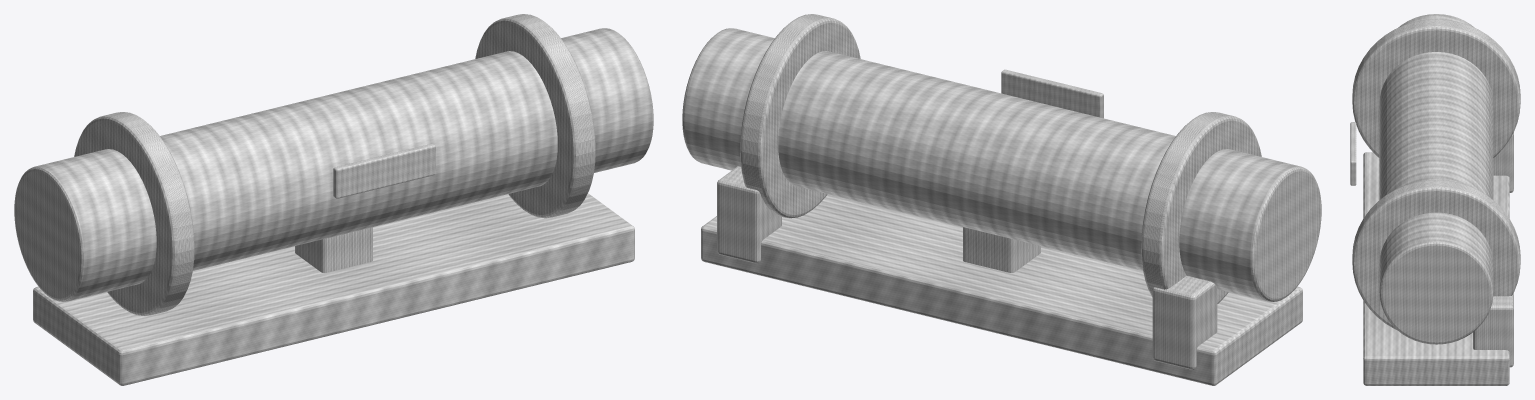
The model's file is pipeline_variant_a.glb.
3 views of the same model, side by side, from view 1: azimuth 30°, elevation 25°; view 2: azimuth 150°, elevation 25°; view 3: azimuth 270°, elevation 25° (orthographic). The views are drawn at different scales.
Parts seen in each view (by area): view 1: Pipe body, Foundation, Pipe flange.001, Pipe flange, Asset ID plate.001, Pipe support; view 2: Pipe body, Foundation, Pipe flange.001, Pipe flange, Service foot, Service foot.001, Asset ID plate.001, Pipe support; view 3: Pipe body, Pipe flange, Pipe flange.001, Foundation, Service foot.001, Service foot, Asset ID plate.001.
Part boxes in pixels (box(x1,y1,x2,y2)): Pipe body: box(14, 28, 653, 301); Foundation: box(33, 193, 634, 385); Pipe flange.001: box(475, 14, 595, 218); Pipe flange: box(74, 112, 194, 315); Asset ID plate.001: box(333, 143, 435, 198); Pipe support: box(295, 227, 372, 272); Pipe body: box(682, 28, 1321, 301); Foundation: box(701, 194, 1302, 385); Pipe flange.001: box(740, 14, 860, 218); Pipe flange: box(1141, 112, 1261, 303); Service foot: box(1152, 276, 1217, 369); Service foot.001: box(717, 166, 781, 263); Asset ID plate.001: box(1001, 69, 1103, 118); Pipe support: box(963, 227, 1040, 272); Pipe body: box(1379, 14, 1493, 344); Pipe flange: box(1352, 19, 1520, 157); Pipe flange.001: box(1352, 180, 1520, 329); Foundation: box(1363, 152, 1509, 385); Service foot.001: box(1473, 293, 1513, 367); Service foot: box(1493, 132, 1513, 192); Asset ID plate.001: box(1350, 122, 1356, 185).
Size of what is drawn, in the model's own units: 4 by 1.49 by 1.25.
3 materials, 3 textured.
